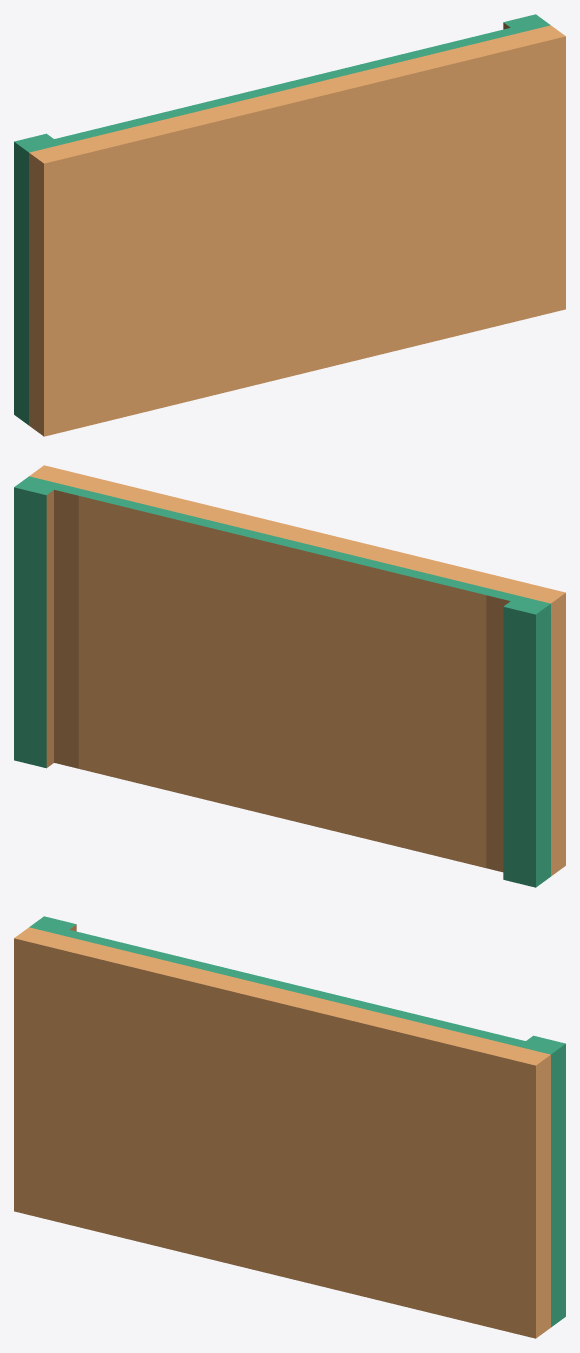
File: tile_wideStraight.obj
3 renders of one model, top to bottom at view 1: azimuth 30°, elevation 25°; view 2: azimuth 150°, elevation 25°; view 3: azimuth 330°, elevation 25°, orthographic.
Visible parts, largest first — view 1: tile_wideStraight; view 2: tile_wideStraight; view 3: tile_wideStraight.
Part boxes in pixels (<box>): tile_wideStraight: <box>14,14,565,436</box>; tile_wideStraight: <box>14,465,565,887</box>; tile_wideStraight: <box>14,916,565,1338</box>.
Bounding box in the file's own units: 2 × 1 × 0.2.
